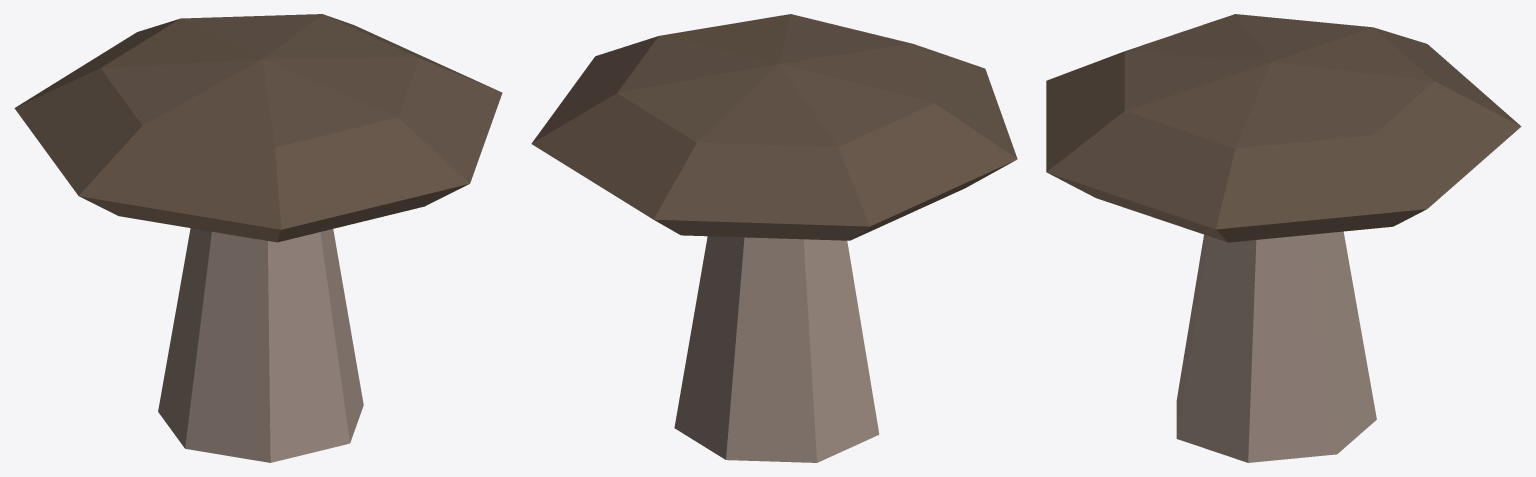
The model's file is Deathcap2.fbx.
The picture shows the model from 3 angles, left to right: view 1: azimuth 30°, elevation 25°; view 2: azimuth 150°, elevation 25°; view 3: azimuth 270°, elevation 25°; orthographic projection.
Visible parts, largest first — view 1: Deathcap2; view 2: Deathcap2; view 3: Deathcap2.
Boxes of the visible parts, bbox=[...] form: Deathcap2: bbox=[14, 14, 502, 462]; Deathcap2: bbox=[531, 14, 1017, 462]; Deathcap2: bbox=[1046, 14, 1521, 462].
Size of the model in its own units: 48.58 by 39.31 by 47.36.
